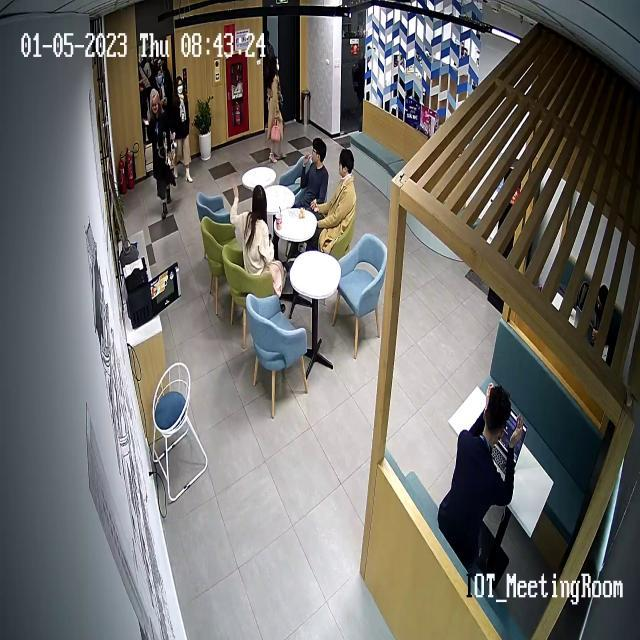person: (438, 383, 526, 598), (229, 174, 286, 296), (311, 148, 357, 257), (144, 90, 176, 212), (260, 53, 288, 163), (291, 137, 330, 211), (172, 71, 193, 183)
